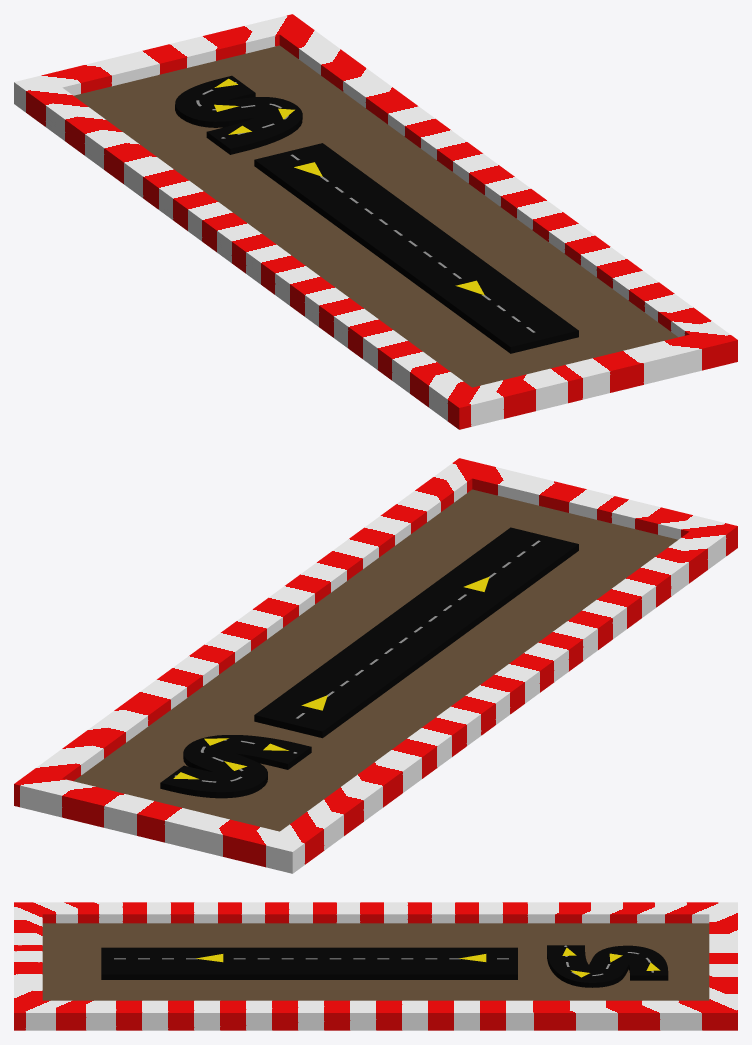
File: alf_Hup.FBX
3 renders of one model, top to bottom at view 1: azimuth 30°, elevation 25°; view 2: azimuth 150°, elevation 25°; view 3: azimuth 270°, elevation 25°, orthographic. The views are drawn at different scales.
Visible parts, largest first — view 1: alf_coll, alf_floor, alf; view 2: alf_coll, alf_floor, alf; view 3: alf_coll, alf_floor, alf, Line0.
Boxes of the visible parts, box(x1,y1,x2,y2) form: alf_coll: box(14, 14, 737, 429); alf_floor: box(74, 45, 677, 387); alf: box(175, 75, 578, 353); alf_coll: box(14, 458, 737, 873); alf_floor: box(74, 489, 677, 831); alf: box(160, 527, 578, 798); alf_coll: box(14, 902, 737, 1030); alf_floor: box(42, 923, 709, 1000); alf: box(101, 945, 668, 987); Line0: box(114, 958, 508, 959).
Bounding box in the file's own units: 437 × 32.76 × 1210.
